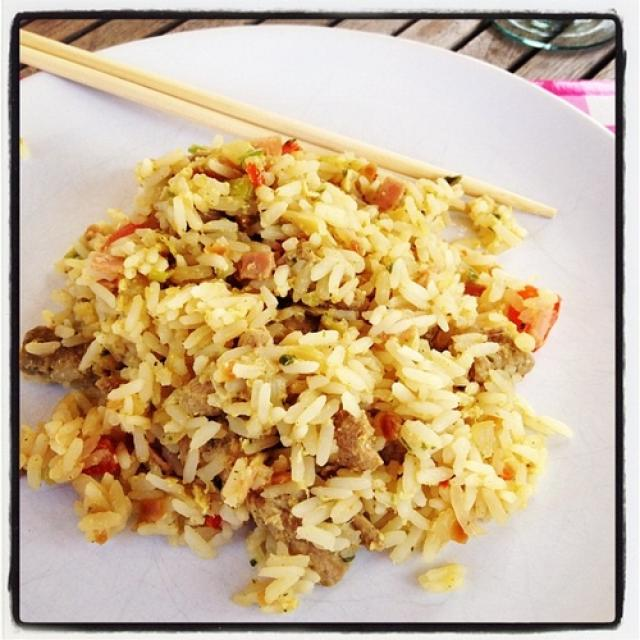米饭主食: (41, 82, 573, 591)
